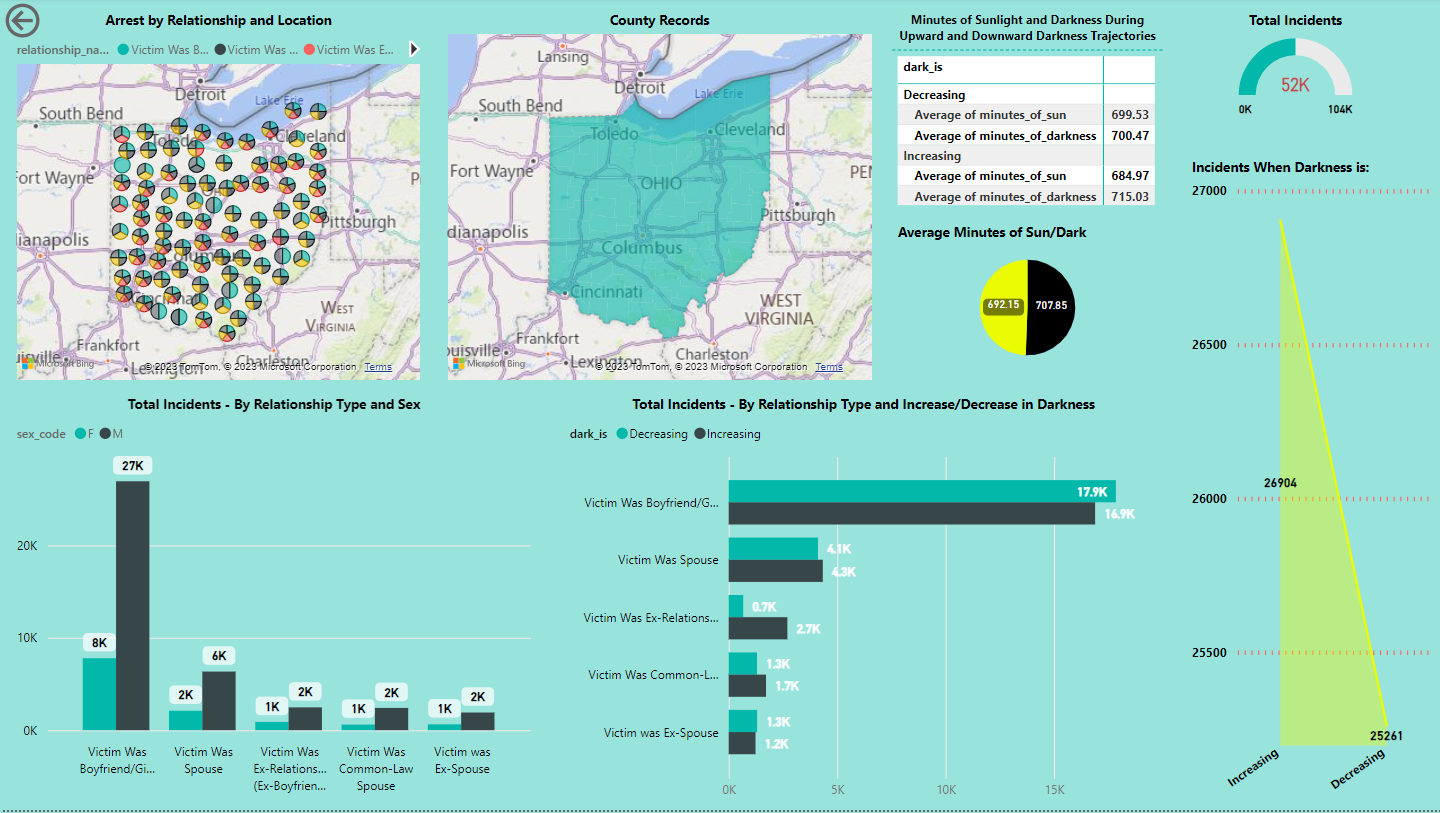

The page's visual inventory and layout, read from the dashboard file:
{"tool":"powerbi","page":{"name":"Page 1","canvas":[1280,720],"ordinal":0},"visuals":[{"type":"map","title":"Arrest by Relationship and Location","fields":{"Y":["public lat_lon.latitude"],"X":["public lat_lon.longitude"],"Series":["public crime_data.relationship_name"]},"box":[9.8,10.6,368,332.5],"z":0},{"type":"lineStackedColumnComboChart","title":"Total Incidents - By Relationship Type and Sex","fields":{"Category":["public crime_data.relationship_name"],"Y":["public crime_data.total_incidents"],"Series":["public crime_data.sex_code"]},"box":[9.8,351.1,316.6,361.8],"z":1000},{"type":"stackedAreaChart","title":"Incidents When Darkness is:","fields":{"Category":["public dark.dark_is"],"Y":["public crime_data.total_incidents"]},"box":[1031.2,351.1,241.2,361.8],"z":2000},{"type":"actionButton","box":[0,0,100,40],"z":3000},{"type":"filledMap","title":"County Records Drill Down","fields":{"Category":["public lat_lon.county_name"],"Y":["Min(public lat_lon.latitude)"],"X":["Min(public lat_lon.longitude)"]},"box":[391.9,10.6,385.7,332.5],"z":4000},{"type":"gauge","title":"2021 Total Arrests","fields":{"Y":["public crime_data.total_incidents"]},"box":[829.2,382.2,150.7,117.9],"z":5000},{"type":"clusteredBarChart","title":"Total Incidents - By Relationship Type and Increase/Decrease in Darkness","fields":{"Category":["public crime_data.relationship_name"],"Y":["public crime_data.total_incidents"],"Series":["public dark.dark_is"]},"box":[334.3,351.1,465.5,368.9],"z":6000},{"type":"pieChart","title":"Average Minutes of Sun/Dark","fields":{"Y":["Avg(public dark.minutes_of_darkness)","Avg(public dark.minutes_of_sun)"]},"box":[808.6,203.8,194.2,130.3],"z":7000},{"type":"clusteredBarChart","title":"Average Arrests: As Dark Increases/Decreases","fields":{"Category":["public dark.dark_is"],"Y":["public crime_data.avg_incidents"]},"box":[790.9,10.6,240.3,180],"z":8000},{"type":"tableEx","title":"Highest Arrest and Sunlight/Darkness Minutes","fields":{"Values":["public dark.minutes_of_darkness","public crime_data.minutes_of_sunlight","public crime_data.total_incidents"]},"box":[1047.2,10.6,225.2,323.6],"z":9000},{"type":"gauge","title":"Average Arrests Per Day","fields":{"Y":["public crime_data.avg_incidents"]},"box":[829.2,535.6,150.7,135.7],"z":10000}]}

Visuals, with their boxes in screenshot pixels (x1, y1, x2, y2), scaled from the page's 1280x720 canvas onto the 1440x813 screenshot:
"Arrest by Relationship and Location" map: Rect(11, 12, 425, 387)
"Total Incidents - By Relationship Type and Sex" lineStackedColumnComboChart: Rect(11, 396, 367, 805)
"Incidents When Darkness is:" stackedAreaChart: Rect(1160, 396, 1431, 805)
actionButton: Rect(0, 0, 112, 45)
"County Records Drill Down" filledMap: Rect(441, 12, 875, 387)
"2021 Total Arrests" gauge: Rect(933, 432, 1102, 565)
"Total Incidents - By Relationship Type and Increase/Decrease in Darkness" clusteredBarChart: Rect(376, 396, 900, 812)
"Average Minutes of Sun/Dark" pieChart: Rect(910, 230, 1128, 377)
"Average Arrests: As Dark Increases/Decreases" clusteredBarChart: Rect(890, 12, 1160, 215)
"Highest Arrest and Sunlight/Darkness Minutes" tableEx: Rect(1178, 12, 1431, 377)
"Average Arrests Per Day" gauge: Rect(933, 605, 1102, 758)
